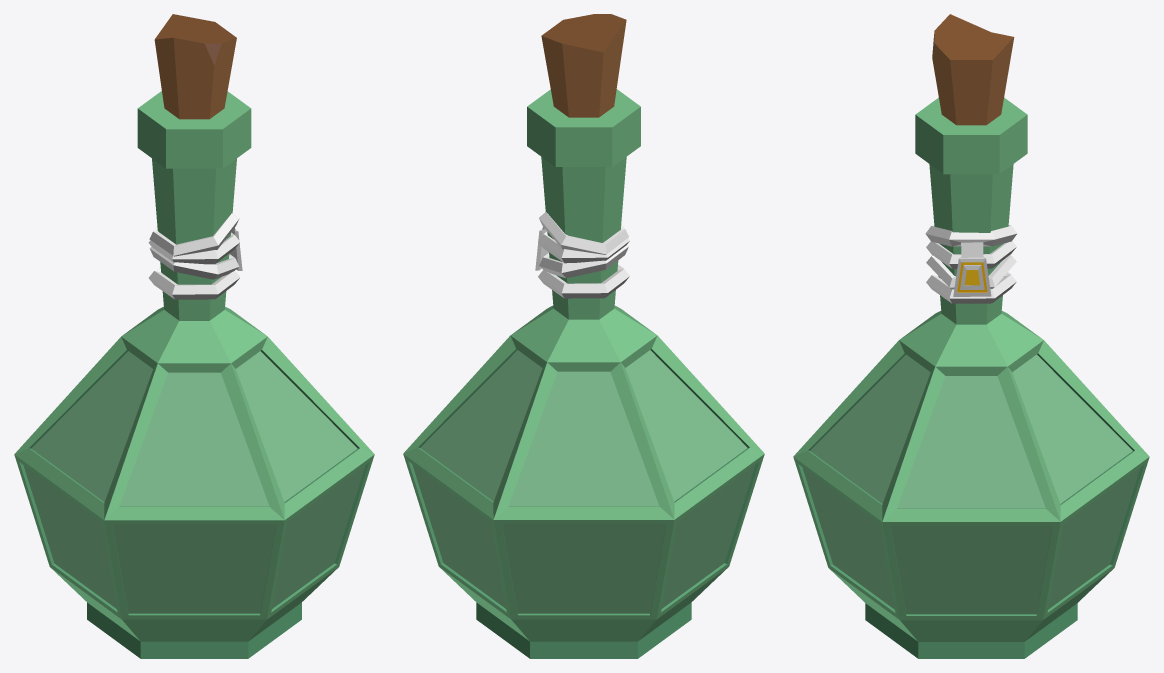
File: Potion_03.glb
3 views of the same model, side by side, from view 1: azimuth 30°, elevation 25°; view 2: azimuth 150°, elevation 25°; view 3: azimuth 270°, elevation 25° (orthographic).
Parts seen in each view (by area): view 1: Potion_03; view 2: Potion_03; view 3: Potion_03.
Boxes of the visible parts, x1,y1,x2,y2 form: Potion_03: (14, 14, 374, 658); Potion_03: (403, 14, 764, 658); Potion_03: (793, 14, 1149, 658).
Size of what is drawn, in the model's own units: 0.2785 by 0.5881 by 0.3216.
1 material, 1 textured.
